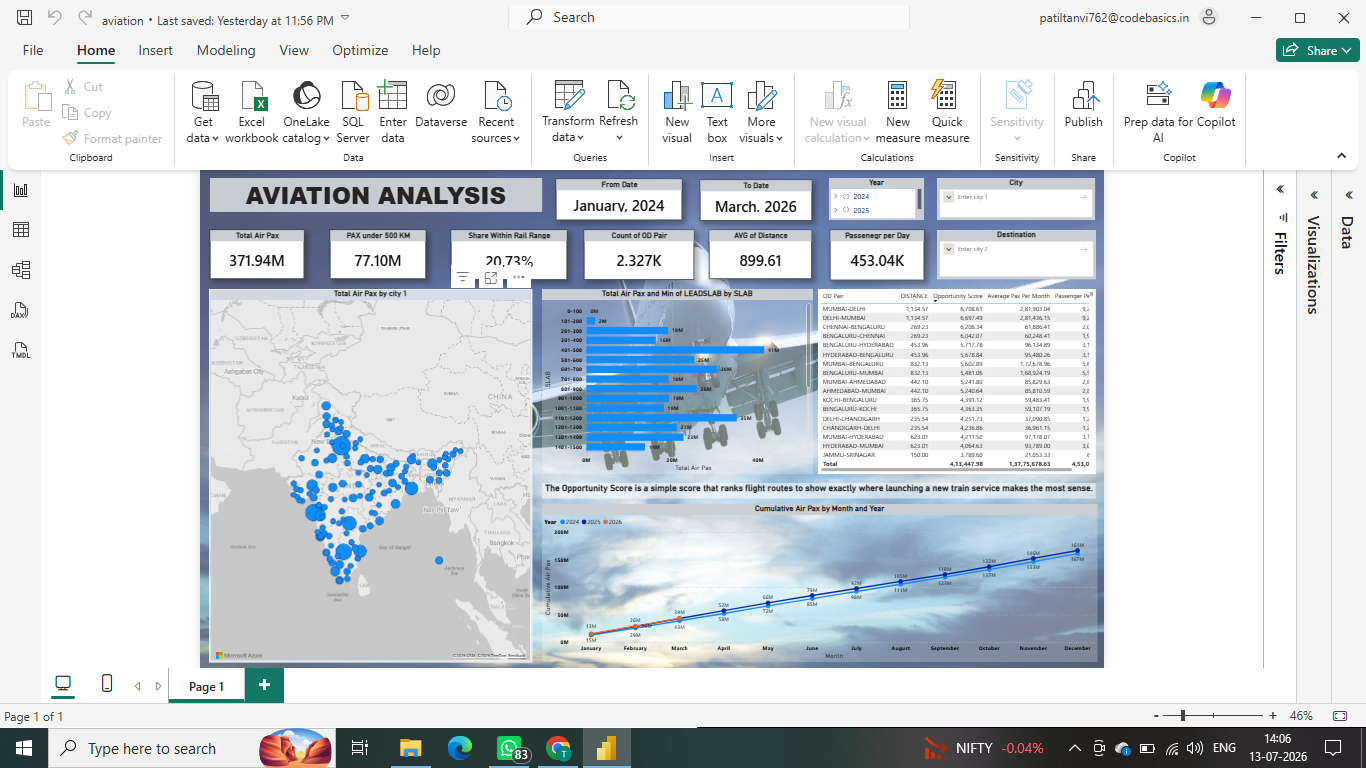

The dashboard page shown, as its layout file describes it:
{"tool":"powerbi","page":{"name":"Page 1","canvas":[1980,1090],"ordinal":0},"visuals":[{"type":"cardVisual","title":"Total Air Pax","fields":{"Data":["public Aviation_Data.Total Air Pax"]},"box":[21.9,131.3,205.7,107.2],"z":0},{"type":"cardVisual","title":"PAX under 500 KM","fields":{"Data":["public Aviation_Data.Pax Under 500 km"]},"box":[284.5,131.3,210.1,107.2],"z":1000},{"type":"cardVisual","title":"Share Within Rail Range","fields":{"Data":["public Aviation_Data.Share Within Rail Range"]},"box":[549.4,131.3,253.9,109.4],"z":2000},{"type":"cardVisual","title":"Count of OD Pair","fields":{"Data":["Count(public Aviation_Data.OD Pair)"]},"box":[840.5,131.3,240.8,109.4],"z":3000},{"type":"cardVisual","title":"AVG of Distance","fields":{"Data":["Avg(public aviation_distance_data.DISTANCE)"]},"box":[1114.1,131.3,225.4,107.2],"z":4000},{"type":"barChart","fields":{"Category":["public aviation_distance_data.SLAB"],"Y":["public Aviation_Data.Total Air Pax"]},"box":[747.5,260,592.5,405],"z":5000},{"type":"listSlicer","fields":{"Values":["public Aviation_Data.Date.Variation.Date Hierarchy.Year","public Aviation_Data.Date.Variation.Date Hierarchy.Month"]},"box":[1376.3,18.4,207.9,92.1],"z":6000},{"type":"tableEx","fields":{"Values":["public aviation_distance_data.OD Pair","public aviation_distance_data.DISTANCE","public Aviation_Data.Opportunity Score","public Aviation_Data.Average Pax Per Month","public Aviation_Data.Passenger Per Day"]},"box":[1352.5,260,607.5,405],"z":7000},{"type":"lineChart","fields":{"Series":["public Aviation_Data.Date.Variation.Date Hierarchy.Year"],"Category":["public Aviation_Data.Date.Variation.Date Hierarchy.Month"],"Y":["public Aviation_Data.Cumulative Air Pax"]},"box":[748,732,1216,346],"z":8000},{"type":"textbox","title":"AVIATION ANALYSIS","box":[21.9,17.5,726.7,74.4],"z":9000},{"type":"azureMap","fields":{"Category":["public Aviation_Data.city 1"],"Size":["public Aviation_Data.Total Air Pax"]},"box":[20,260,707.5,817.5],"z":10000},{"type":"cardVisual","title":"Passenegr per Day","fields":{"Data":["public Aviation_Data.Passenger Per Day"]},"box":[1378,132,206,110],"z":11000},{"type":"textSlicer","title":"City","fields":{"Values":["public Aviation_Data.city 1"]},"box":[1614,18,346,92],"z":12000},{"type":"textSlicer","title":"Destination","fields":{"Values":["public Aviation_Data.city 2"]},"box":[1614,132,348,108],"z":13000},{"type":"cardVisual","title":"From Date","fields":{"Data":["public Aviation_Data.From Date"]},"box":[780,20,276,90],"z":14000},{"type":"cardVisual","title":"To Date","fields":{"Data":["public Aviation_Data.To Date"]},"box":[1095.5,20.9,244.5,89.1],"z":15000},{"type":"textbox","title":"The Opportunity Score is a simple score that ranks flight routes to show exactly where launching a new train service makes the most sense.","box":[748,684,1212,34],"z":16000}]}

Visuals, with their boxes on the page's 1980x1090 design canvas (x1, y1, x2, y2). These are canvas units, not pixel positions in the 1366x768 screenshot, which may show the page scaled, cropped or inside an application window:
"Total Air Pax" cardVisual: (22, 131, 228, 238)
"PAX under 500 KM" cardVisual: (284, 131, 495, 238)
"Share Within Rail Range" cardVisual: (549, 131, 803, 241)
"Count of OD Pair" cardVisual: (840, 131, 1081, 241)
"AVG of Distance" cardVisual: (1114, 131, 1340, 238)
barChart - public aviation_distance_data.SLAB x public Aviation_Data.Total Air Pax: (748, 260, 1340, 665)
listSlicer - public Aviation_Data.Date.Variation.Date Hierarchy.Year x public Aviation_Data.Date.Variation.Date Hierarchy.Month: (1376, 18, 1584, 110)
tableEx - public aviation_distance_data.OD Pair x public aviation_distance_data.DISTANCE: (1352, 260, 1960, 665)
lineChart - public Aviation_Data.Date.Variation.Date Hierarchy.Year x public Aviation_Data.Date.Variation.Date Hierarchy.Month: (748, 732, 1964, 1078)
"AVIATION ANALYSIS" textbox: (22, 18, 749, 92)
azureMap - public Aviation_Data.city 1 x public Aviation_Data.Total Air Pax: (20, 260, 728, 1078)
"Passenegr per Day" cardVisual: (1378, 132, 1584, 242)
"City" textSlicer: (1614, 18, 1960, 110)
"Destination" textSlicer: (1614, 132, 1962, 240)
"From Date" cardVisual: (780, 20, 1056, 110)
"To Date" cardVisual: (1096, 21, 1340, 110)
"The Opportunity Score is a simple score that ranks flight routes to show exactly where launching a new train service makes the most sense." textbox: (748, 684, 1960, 718)
